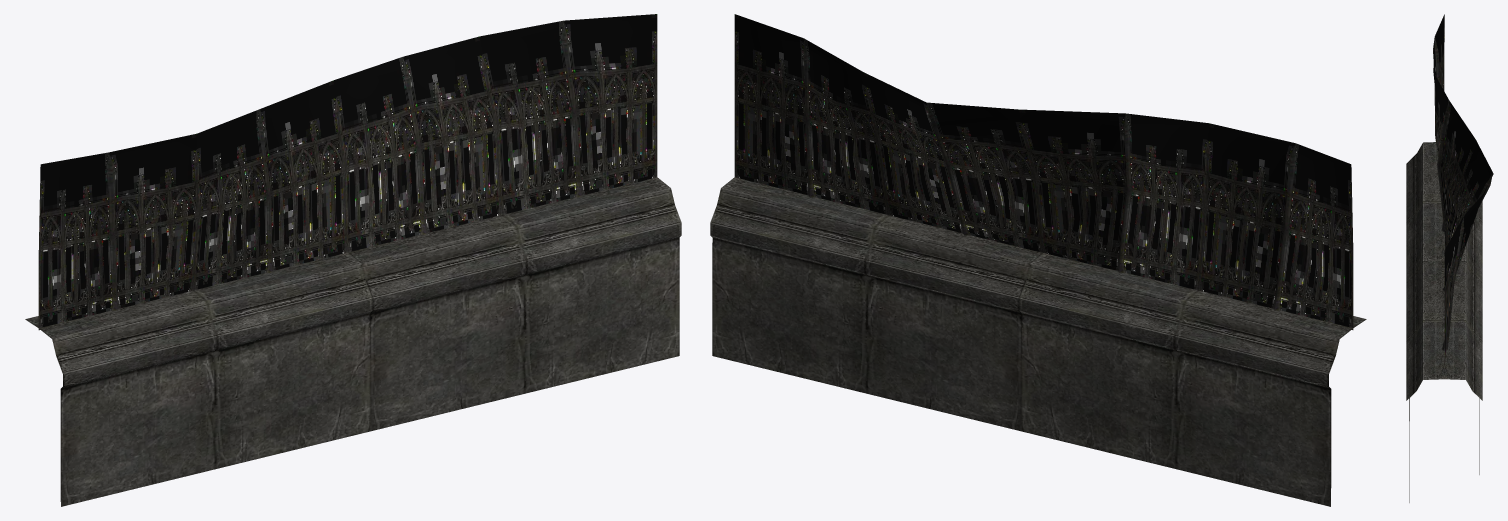
Rendered from eso_gu11_GraveyardFence4-transformed.glb.
3 renders of one model, left to right at view 1: azimuth 30°, elevation 25°; view 2: azimuth 150°, elevation 25°; view 3: azimuth 270°, elevation 25°, orthographic. The views are drawn at different scales.
Visible parts, largest first — view 1: default; view 2: default; view 3: default.
Part boxes in pixels (x1,y1,x2,y2): default: (25, 14, 681, 506); default: (710, 14, 1366, 506); default: (1406, 14, 1493, 502).
Size of the model in its own units: 10.24 by 5.22 by 1.59.
1 material, 1 textured.
